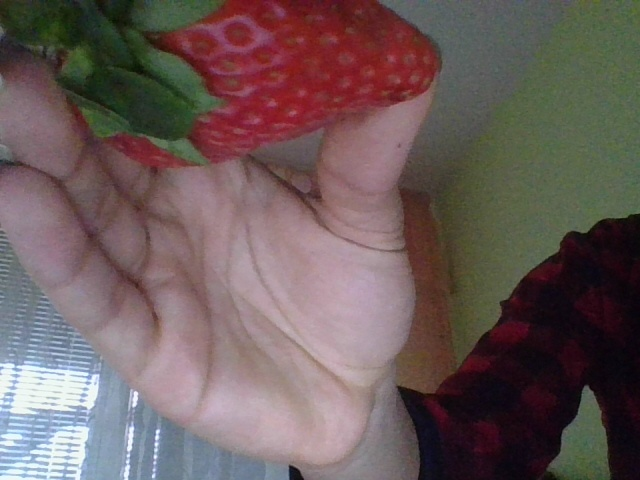ripe: (61, 9, 444, 169)
